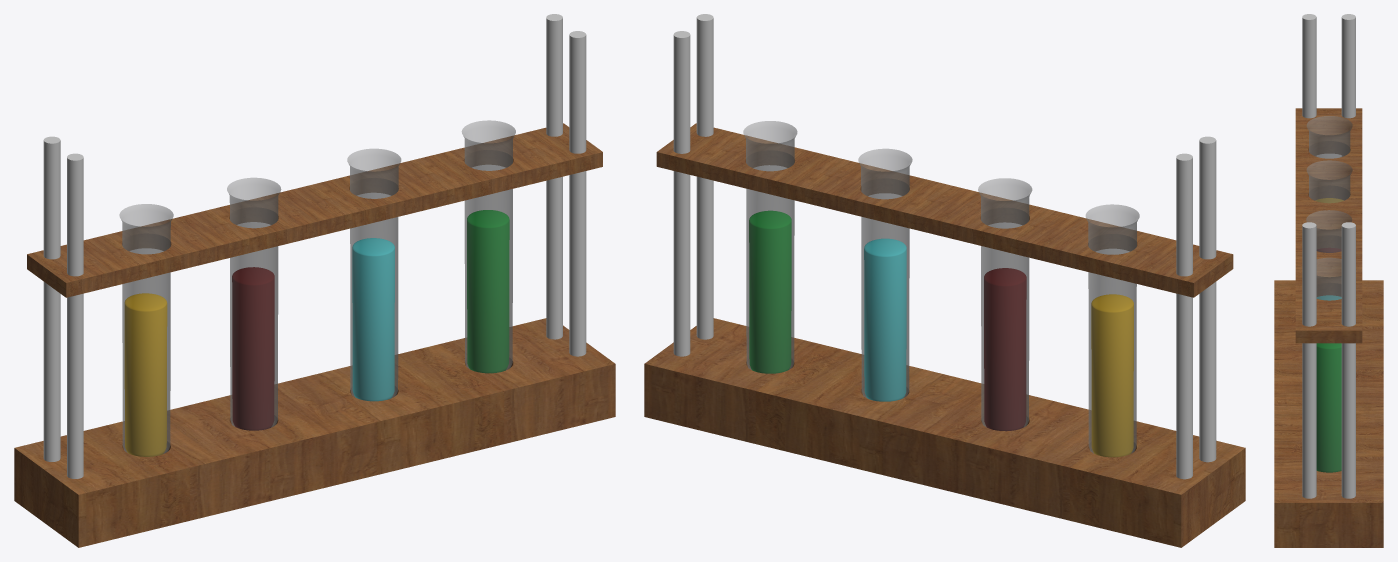
File: Chem Set.FBX
3 renders of one model, left to right at view 1: azimuth 30°, elevation 25°; view 2: azimuth 150°, elevation 25°; view 3: azimuth 270°, elevation 25°, orthographic. The views are drawn at different scales.
Parts seen in each view (by area): view 1: Box001, Box002, Sphere013, Sphere005, Sphere011, Sphere014, Sphere002, Sphere007, Sphere004, Sphere012, Sphere009, Sphere006 (+6 smaller); view 2: Box001, Box002, Sphere002, Sphere013, Sphere005, Sphere011, Sphere014, Sphere007, Sphere004, Sphere012, Sphere006, Sphere015 (+6 smaller); view 3: Box001, Box002, Sphere002, Sphere004, Cylinder008, Cylinder009, Sphere003, Sphere013, Sphere011, Sphere014, Sphere012, Cylinder006 (+3 smaller).
Part boxes in pixels (bbox=[...]): Box001: bbox=[14, 318, 615, 547]; Box002: bbox=[27, 123, 602, 297]; Sphere013: bbox=[119, 204, 173, 456]; Sphere005: bbox=[347, 149, 400, 400]; Sphere011: bbox=[227, 178, 280, 430]; Sphere014: bbox=[120, 204, 172, 456]; Sphere002: bbox=[462, 120, 515, 372]; Sphere007: bbox=[348, 149, 400, 400]; Sphere004: bbox=[462, 121, 515, 372]; Sphere012: bbox=[227, 178, 280, 429]; Sphere009: bbox=[232, 267, 274, 430]; Sphere006: bbox=[352, 238, 394, 401]; Box001: bbox=[644, 318, 1245, 547]; Box002: bbox=[656, 123, 1233, 297]; Sphere002: bbox=[743, 121, 796, 373]; Sphere013: bbox=[1086, 204, 1139, 456]; Sphere005: bbox=[858, 149, 912, 401]; Sphere011: bbox=[978, 178, 1031, 430]; Sphere014: bbox=[1086, 205, 1138, 456]; Sphere007: bbox=[859, 149, 911, 400]; Sphere004: bbox=[744, 121, 796, 372]; Sphere012: bbox=[978, 179, 1031, 430]; Sphere006: bbox=[864, 238, 906, 401]; Sphere015: bbox=[1091, 294, 1133, 457]; Box001: bbox=[1274, 280, 1383, 547]; Box002: bbox=[1295, 108, 1362, 343]; Sphere002: bbox=[1317, 258, 1341, 472]; Sphere004: bbox=[1317, 258, 1341, 471]; Cylinder008: bbox=[1302, 222, 1316, 498]; Cylinder009: bbox=[1341, 222, 1355, 498]; Sphere003: bbox=[1316, 343, 1341, 472]; Sphere013: bbox=[1307, 116, 1352, 158]; Sphere011: bbox=[1307, 160, 1352, 202]; Sphere014: bbox=[1307, 116, 1351, 158]; Sphere012: bbox=[1307, 161, 1351, 202]; Cylinder006: bbox=[1341, 14, 1355, 156].
Size of the model in its own units: 63.19 by 41.79 by 13.09.
